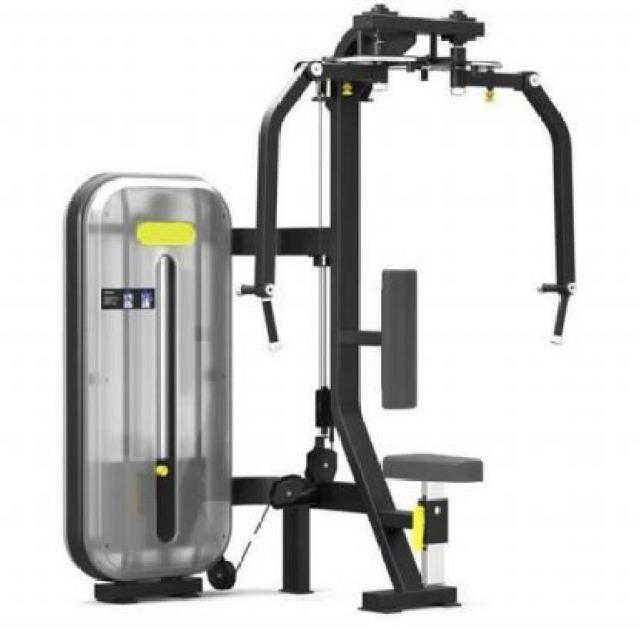chest fly machine: (61, 6, 584, 628)
